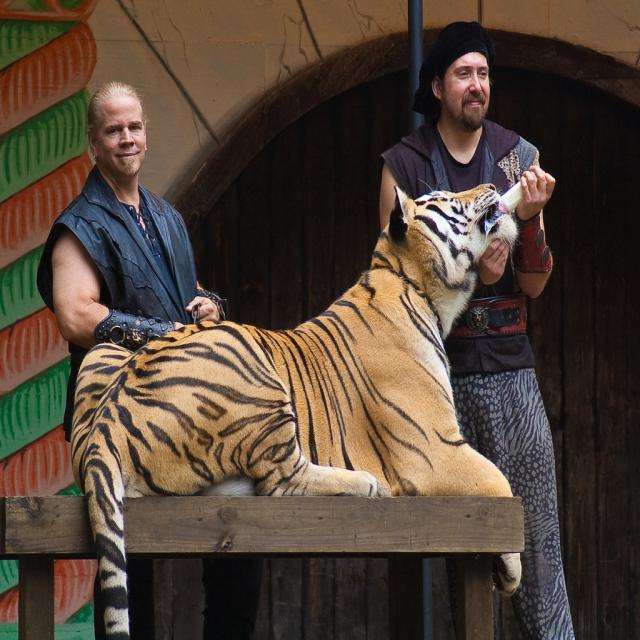Tiger: (73, 178, 520, 636)
